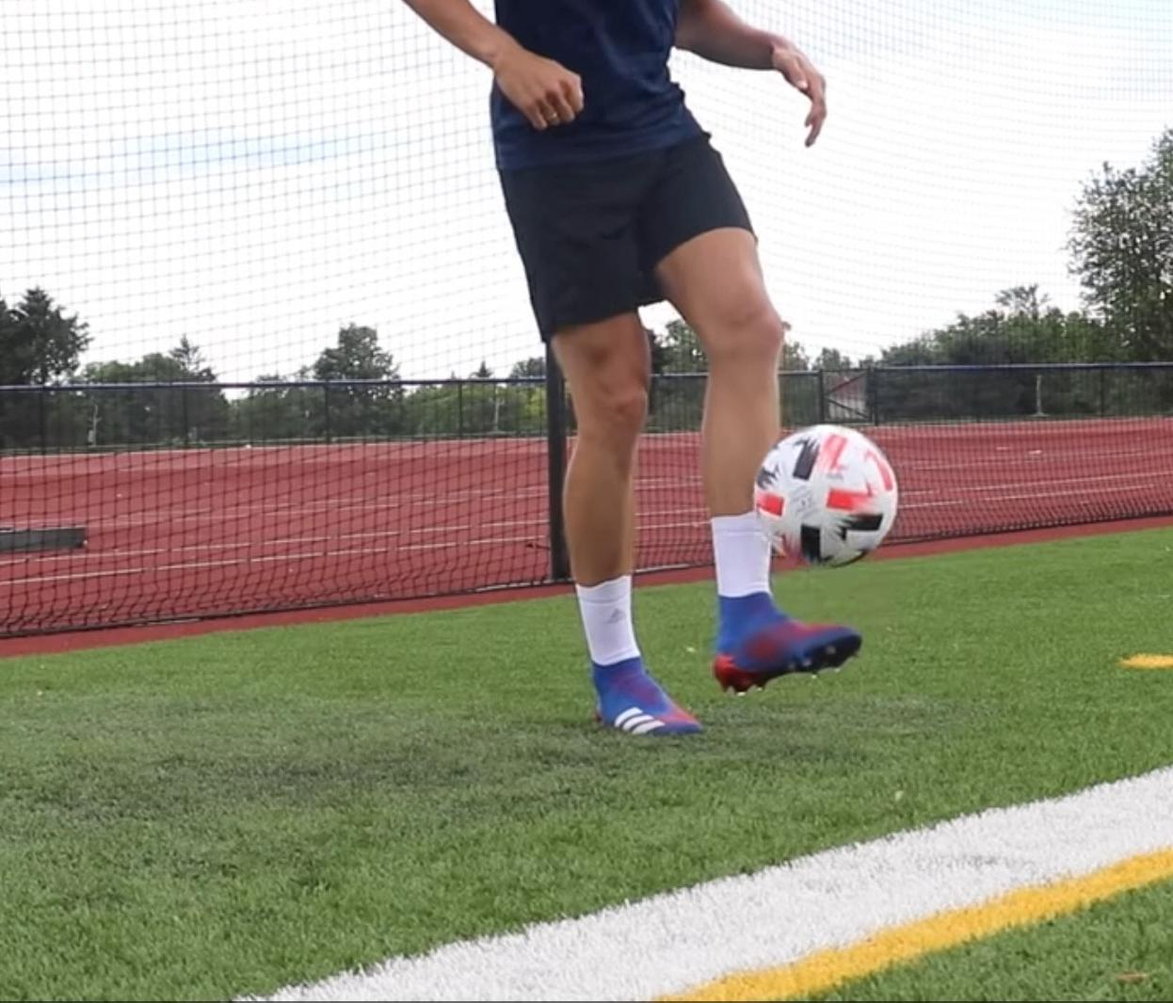ball: (753, 423, 901, 564)
foot: (708, 585, 862, 699), (591, 653, 713, 741)
person: (404, 0, 866, 735)
